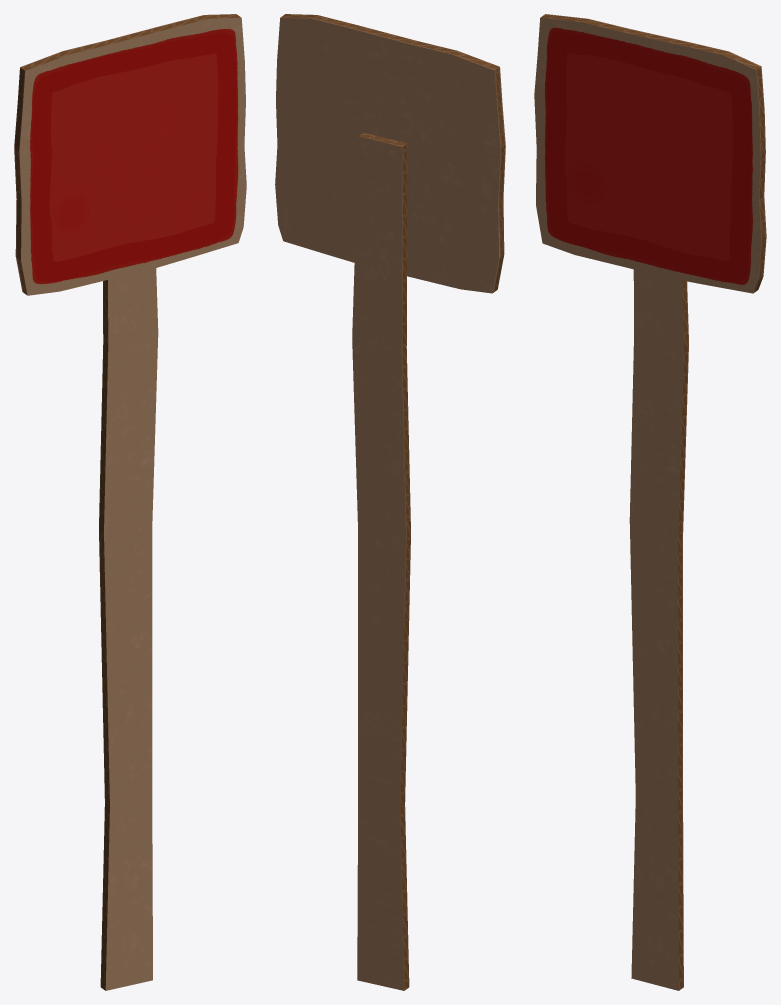
The model's file is letreroCuadrado.fbx.
3 views of the same model, side by side, from view 1: azimuth 30°, elevation 25°; view 2: azimuth 150°, elevation 25°; view 3: azimuth 330°, elevation 25° (orthographic).
Parts seen in each view (by area): view 1: letreroCuadrado, Palo; view 2: letreroCuadrado, Palo; view 3: letreroCuadrado, Palo.
Boxes of the visible parts, x1,y1,x2,y2 form: letreroCuadrado: (14,14,246,295); Palo: (99,268,158,990); letreroCuadrado: (275,14,505,293); Palo: (352,132,410,990); letreroCuadrado: (534,14,766,293); Palo: (629,269,688,990).
Size of the model in its own units: 10.1 by 40.46 by 0.8154.
Materials: 2 (2 with a texture image).
